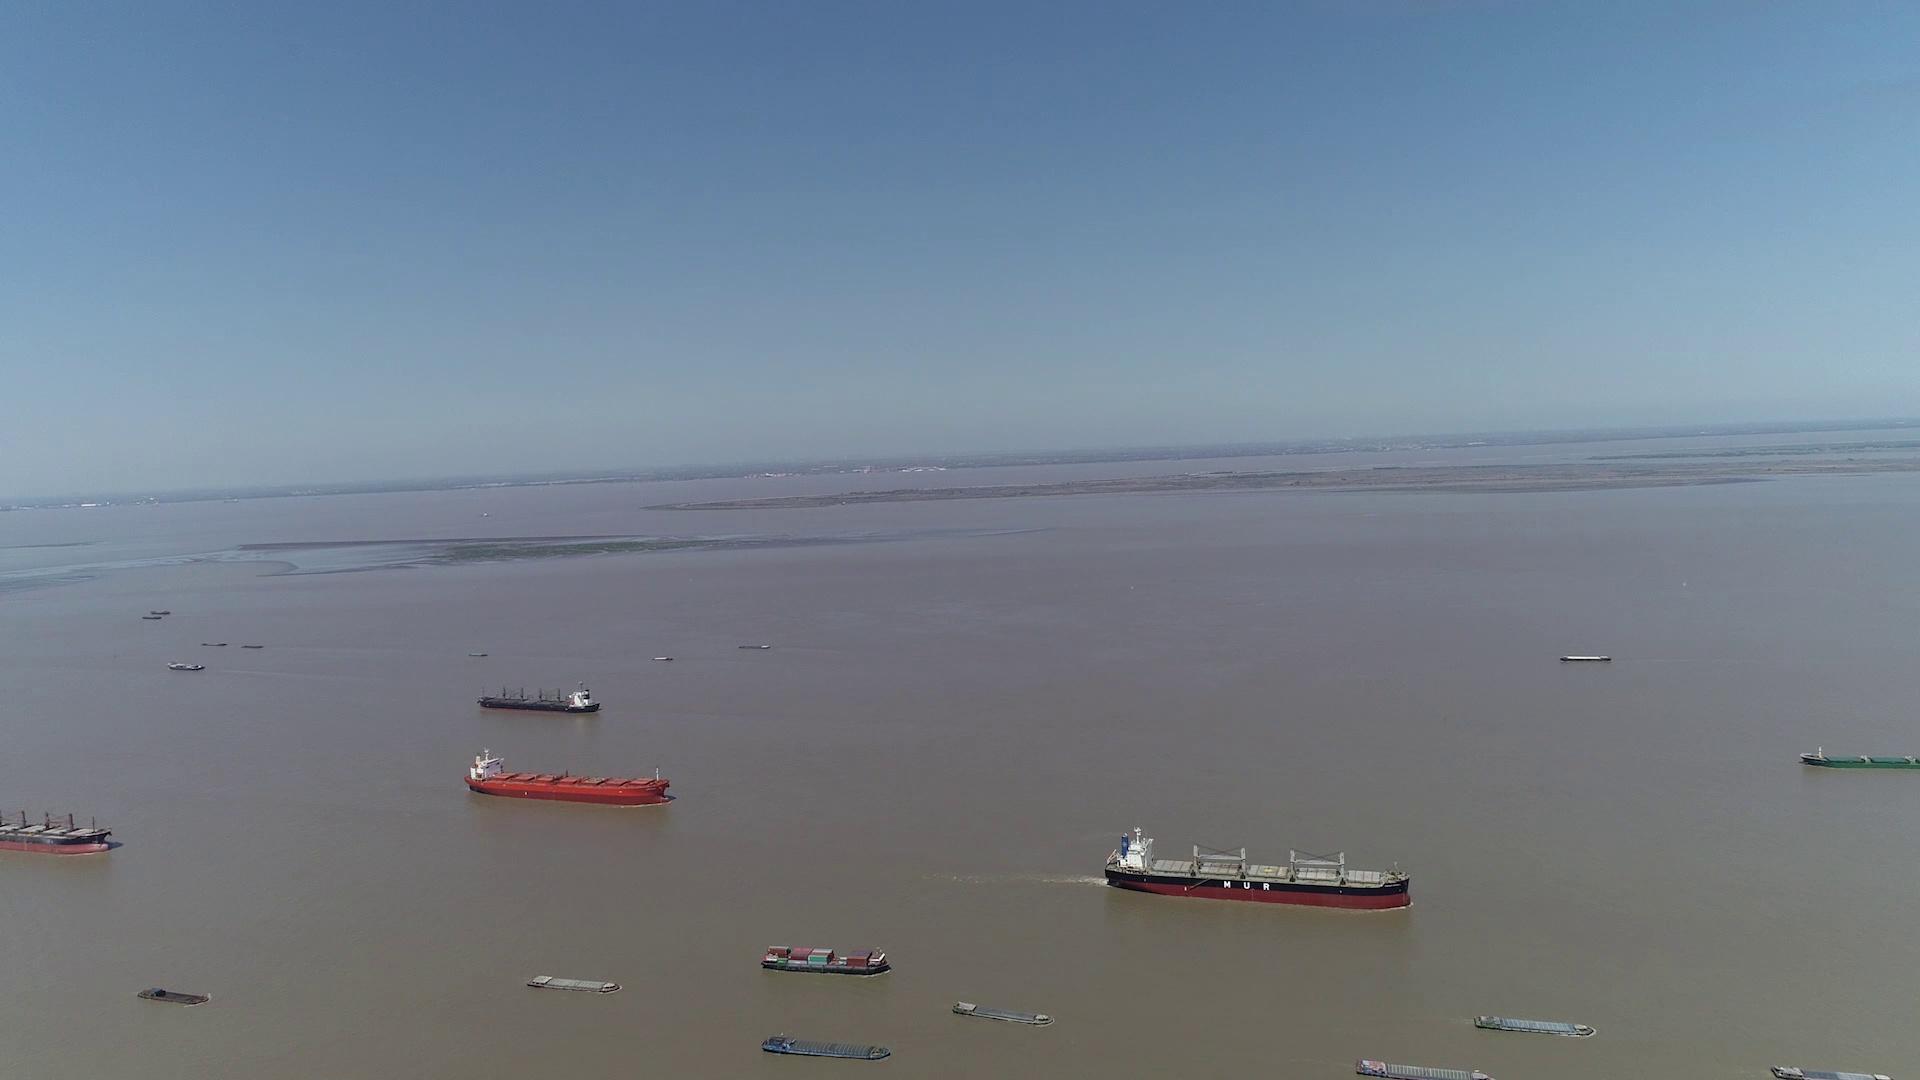ship: (1102, 828, 1415, 911), (464, 746, 669, 804), (0, 796, 113, 857), (760, 944, 891, 976), (1378, 1040, 1524, 1068), (479, 683, 600, 713), (760, 1034, 897, 1060), (1356, 1058, 1490, 1080), (1472, 1015, 1596, 1039), (1799, 746, 1920, 769), (951, 1001, 1054, 1025), (525, 973, 618, 993), (1772, 1064, 1888, 1080), (136, 986, 211, 1005), (1561, 654, 1610, 662), (167, 662, 206, 671)
